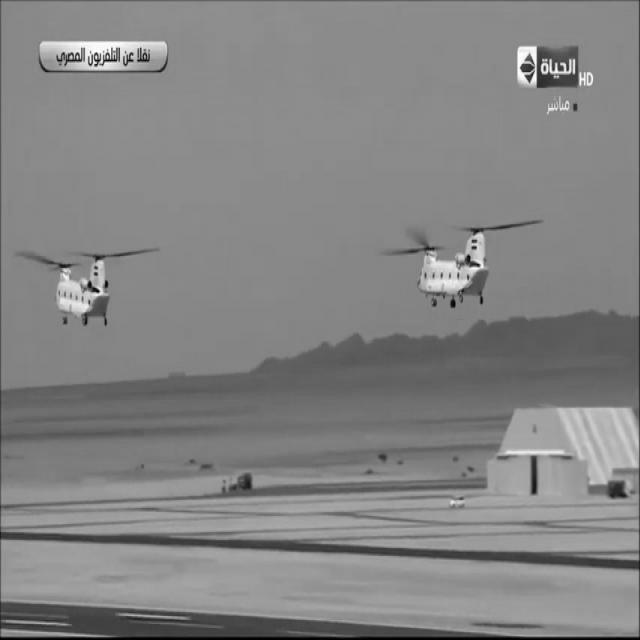helikopter: (388, 202, 524, 330), (31, 222, 140, 346)
